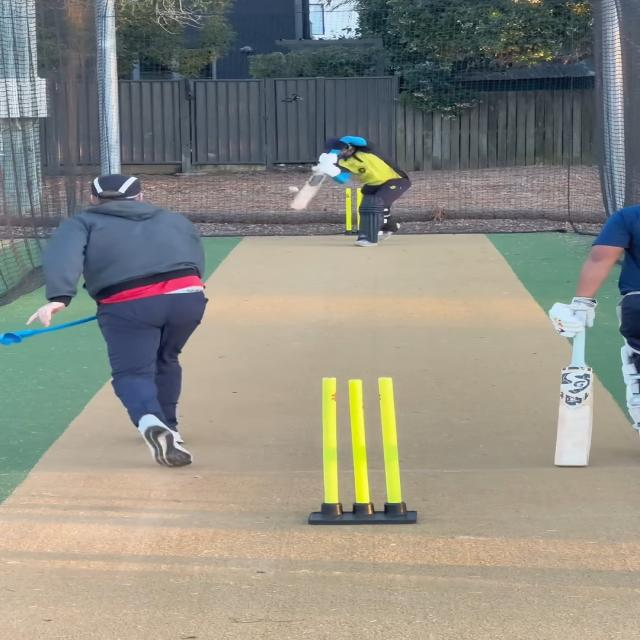ball: (287, 185, 302, 193)
stump: (308, 375, 419, 526)
